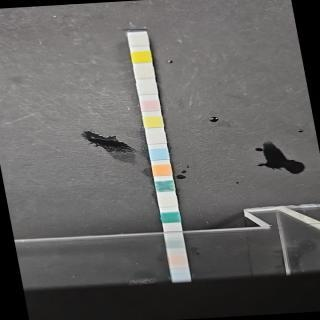mark: (144, 115, 163, 128), (132, 50, 151, 63), (153, 163, 171, 176), (138, 82, 156, 95), (147, 132, 166, 144), (141, 99, 160, 111), (135, 66, 154, 78), (150, 148, 168, 160), (130, 34, 148, 46), (156, 180, 175, 191), (162, 212, 180, 223), (159, 196, 176, 207)
